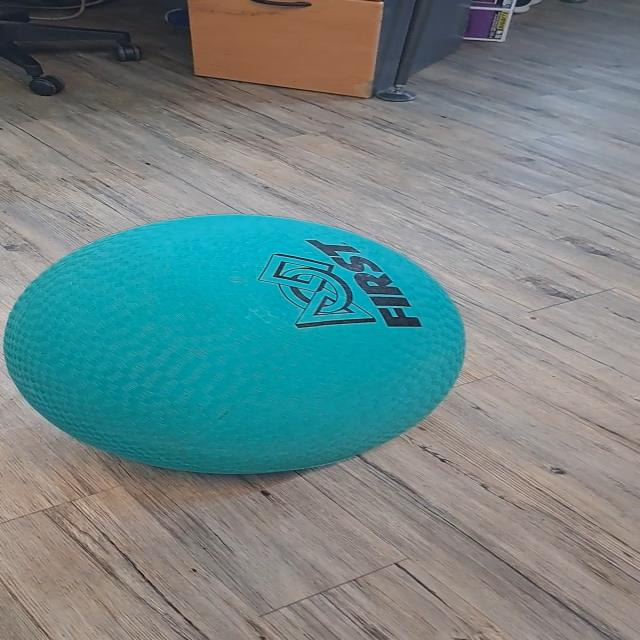ALGAE: (2, 212, 468, 476)
